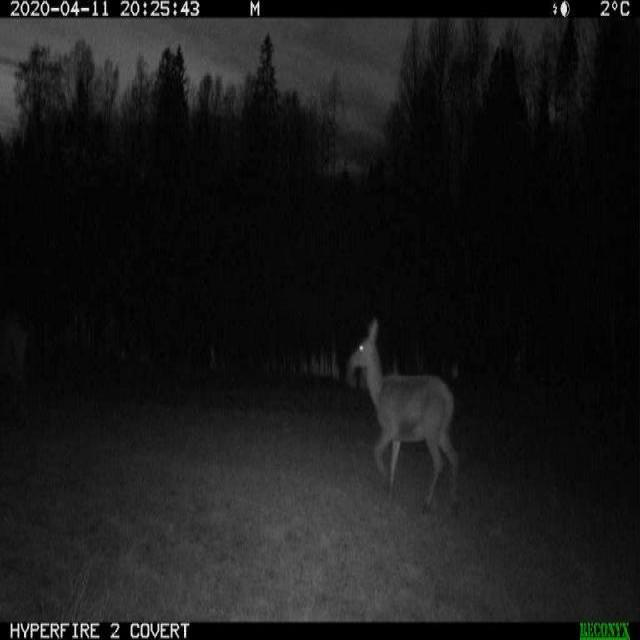deer: (341, 303, 468, 526)
